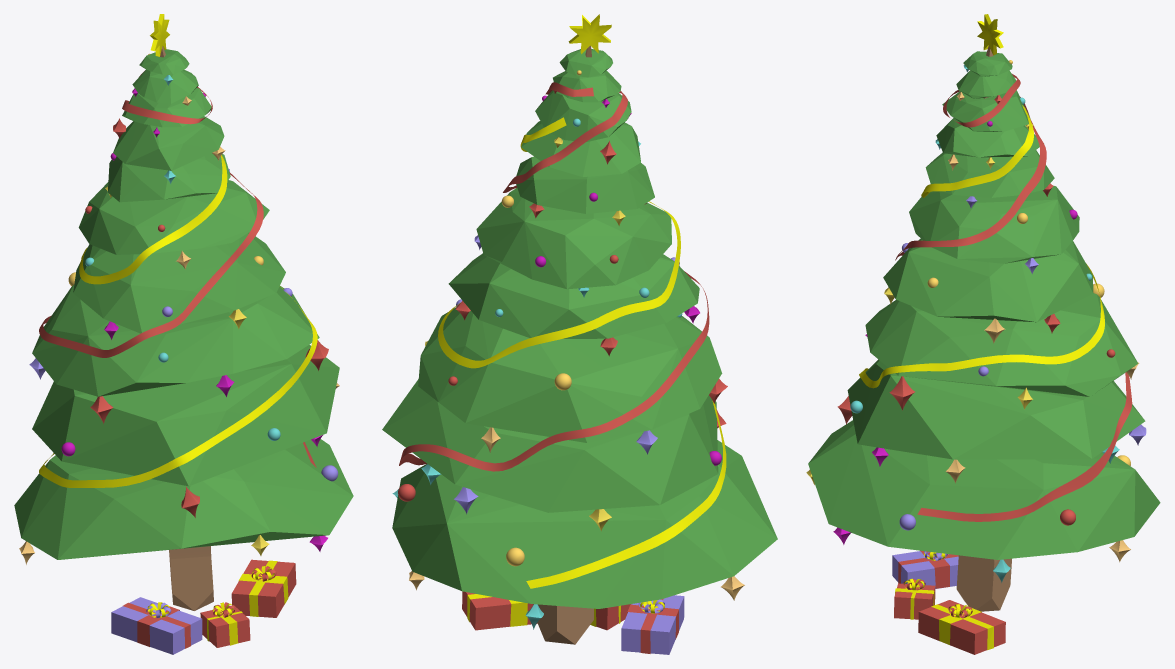
File: christmas_tree.glb
3 renders of one model, left to right at view 1: azimuth 30°, elevation 25°; view 2: azimuth 150°, elevation 25°; view 3: azimuth 270°, elevation 25°, orthographic. The views are drawn at different scales.
Parts seen in each view (by area): view 1: Object_5, Object_12, Object_15, Object_7, Object_2, Object_10, Object_8; view 2: Object_5, Object_12, Object_15, Object_7, Object_2, Object_16, Object_18, Object_6, Object_10; view 3: Object_5, Object_12, Object_15, Object_2, Object_7, Object_10, Object_16.
Part boxes in pixels (x1,y1,x2,y2): Object_5: (14,49,353,559); Object_12: (39,71,316,648); Object_15: (39,14,317,645); Object_7: (111,288,338,654); Object_2: (160,46,213,610); Object_10: (90,340,328,517); Object_8: (104,88,327,551); Object_5: (382,49,777,608); Object_12: (398,82,709,653); Object_15: (438,14,726,626); Object_7: (456,257,684,654); Object_2: (533,45,593,644); Object_16: (409,427,744,600); Object_18: (501,70,581,566); Object_6: (454,235,657,514); Object_10: (455,90,727,428); Object_5: (808,51,1160,559); Object_12: (894,74,1132,654); Object_15: (859,14,1104,650); Object_2: (956,45,1011,611); Object_7: (892,243,988,588); Object_10: (837,95,1060,424); Object_16: (945,92,1139,562).
Bounding box in the file's own units: 1.74 × 3.12 × 1.71.
